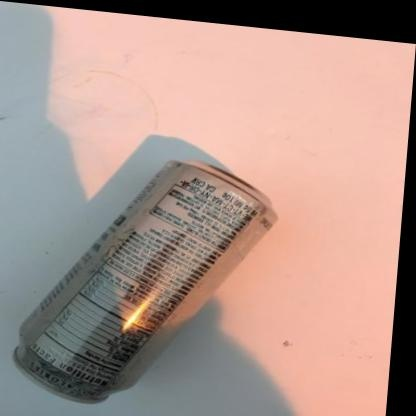trash: (15, 161, 276, 400)
